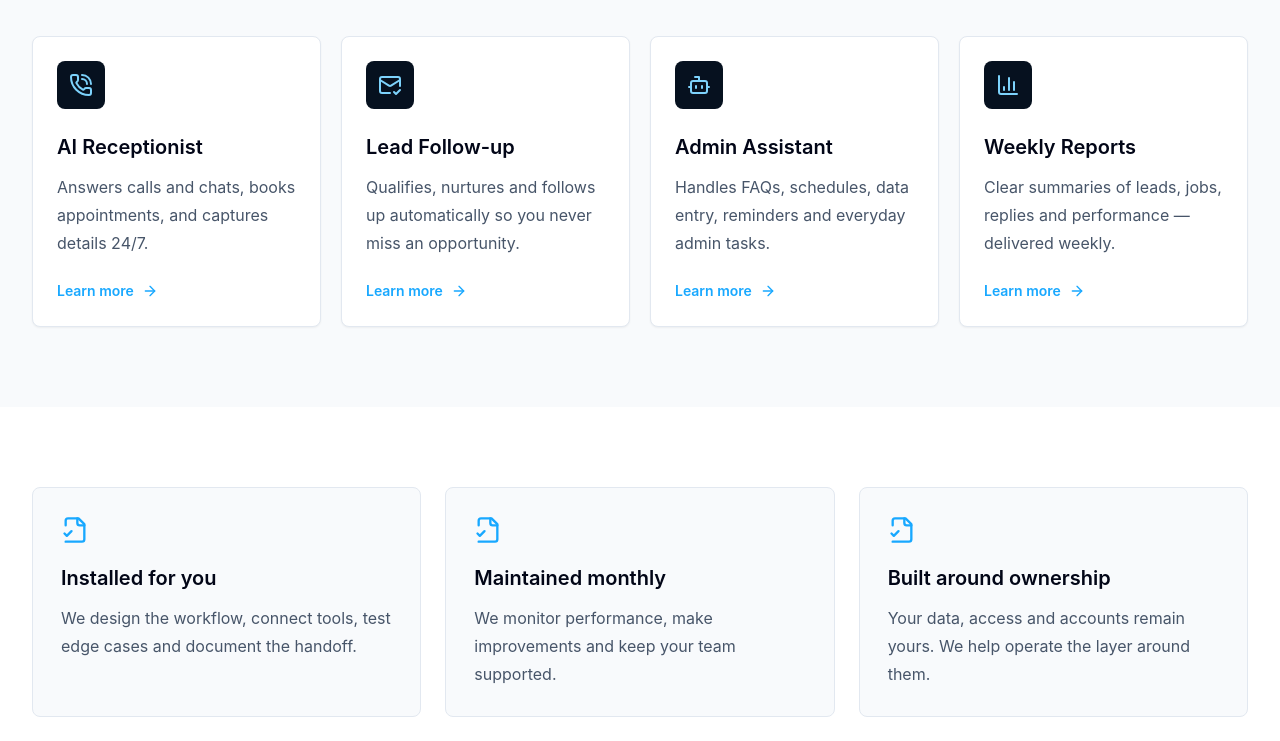
Scenario: AidlyAI site › opens service microsites from the services page
The width and height of the screenshot is (1280, 741).
(page scrolled)
Click the 1st link "Learn more" at (107, 291), box [57,281,158,301]
(page scrolled)
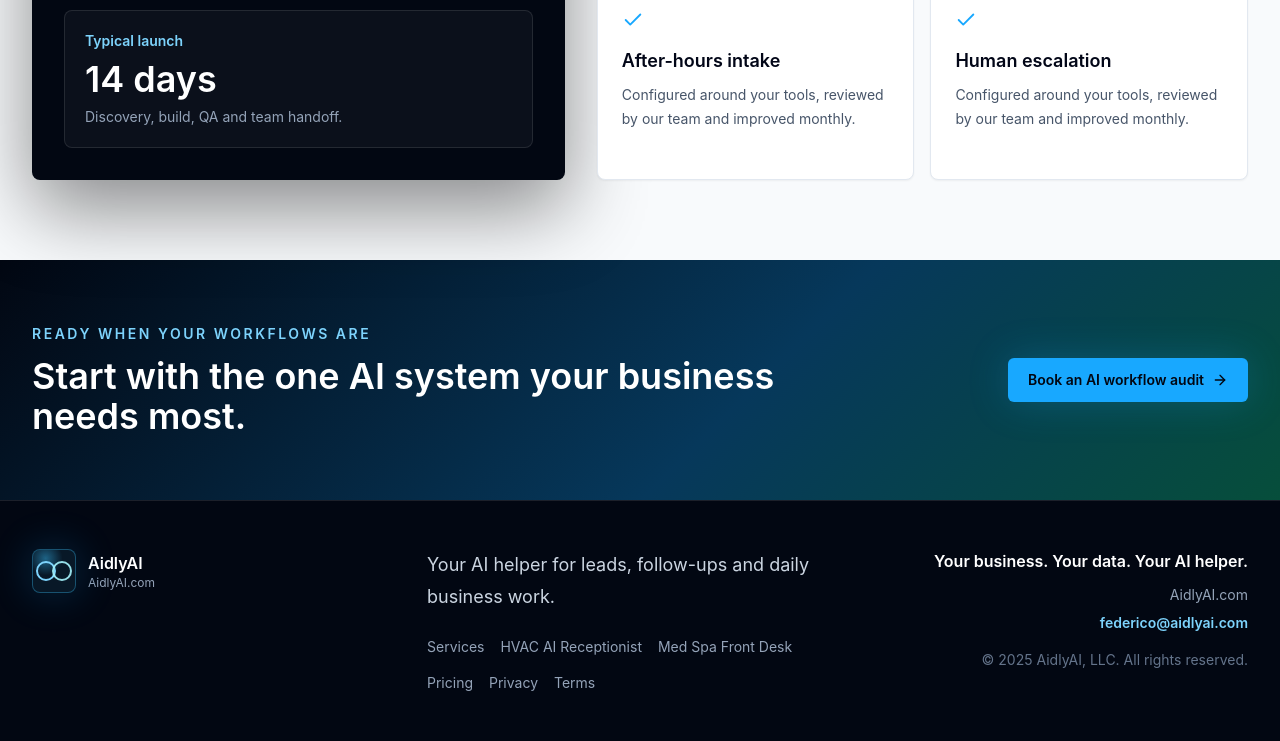
Expected: the text "Typical launch" is shown, [85,32,183,49]
